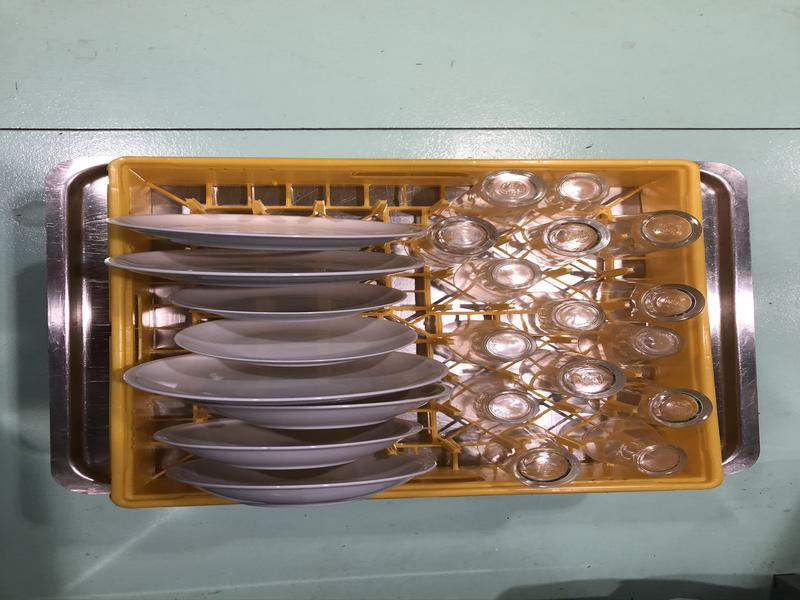Dish: (116, 355, 447, 401), (154, 416, 424, 470), (164, 453, 442, 503), (102, 211, 430, 253), (99, 248, 434, 286), (176, 315, 415, 368), (180, 390, 450, 429), (168, 286, 407, 322)
Glass: (565, 416, 684, 476), (473, 425, 580, 490), (597, 382, 716, 430), (522, 349, 620, 402), (454, 374, 546, 429), (594, 276, 701, 323), (610, 210, 706, 258), (504, 295, 606, 339), (456, 172, 545, 222), (527, 219, 608, 266), (447, 323, 535, 366), (454, 256, 539, 300), (600, 320, 681, 360), (550, 170, 609, 221), (436, 215, 499, 260)
